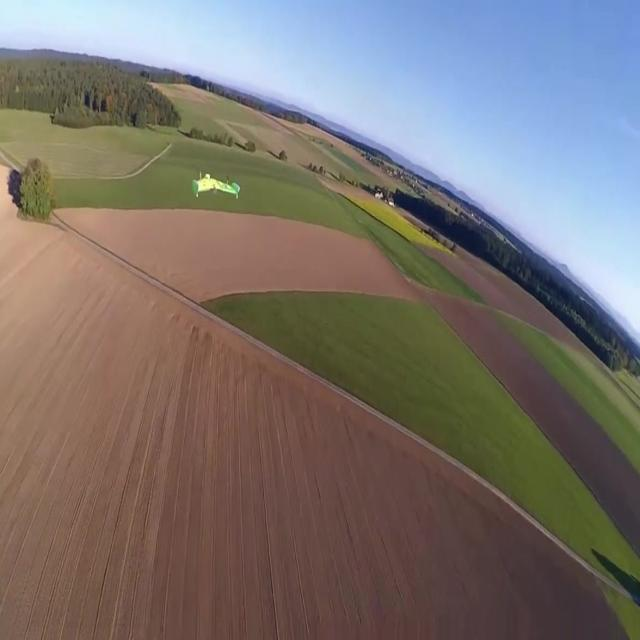iha: (192, 171, 240, 201)
